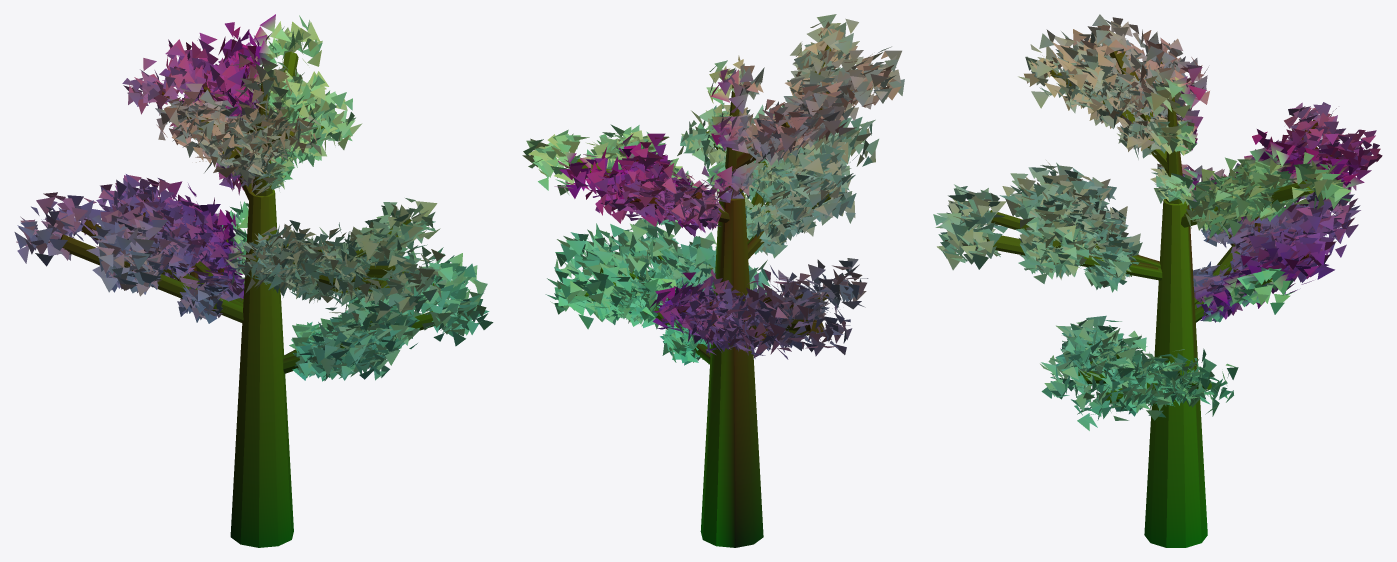
File: ecological_broadleaf_mature_01.glb
3 renders of one model, left to right at view 1: azimuth 30°, elevation 25°; view 2: azimuth 150°, elevation 25°; view 3: azimuth 270°, elevation 25°, orthographic. The views are drawn at different scales.
Parts seen in each view (by area): view 1: ecological_broadleaf_mature_01; view 2: ecological_broadleaf_mature_01; view 3: ecological_broadleaf_mature_01.
Part boxes in pixels (box(x1,y1,x2,y2)): ecological_broadleaf_mature_01: box(14, 14, 493, 547); ecological_broadleaf_mature_01: box(522, 14, 904, 547); ecological_broadleaf_mature_01: box(933, 14, 1382, 547).
Size of the model in its own units: 25.83 by 31.25 by 27.14.
